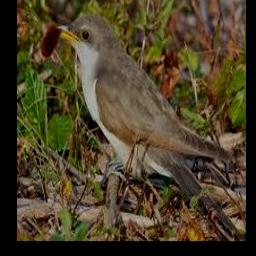Cuckoo: (56, 15, 243, 241)
